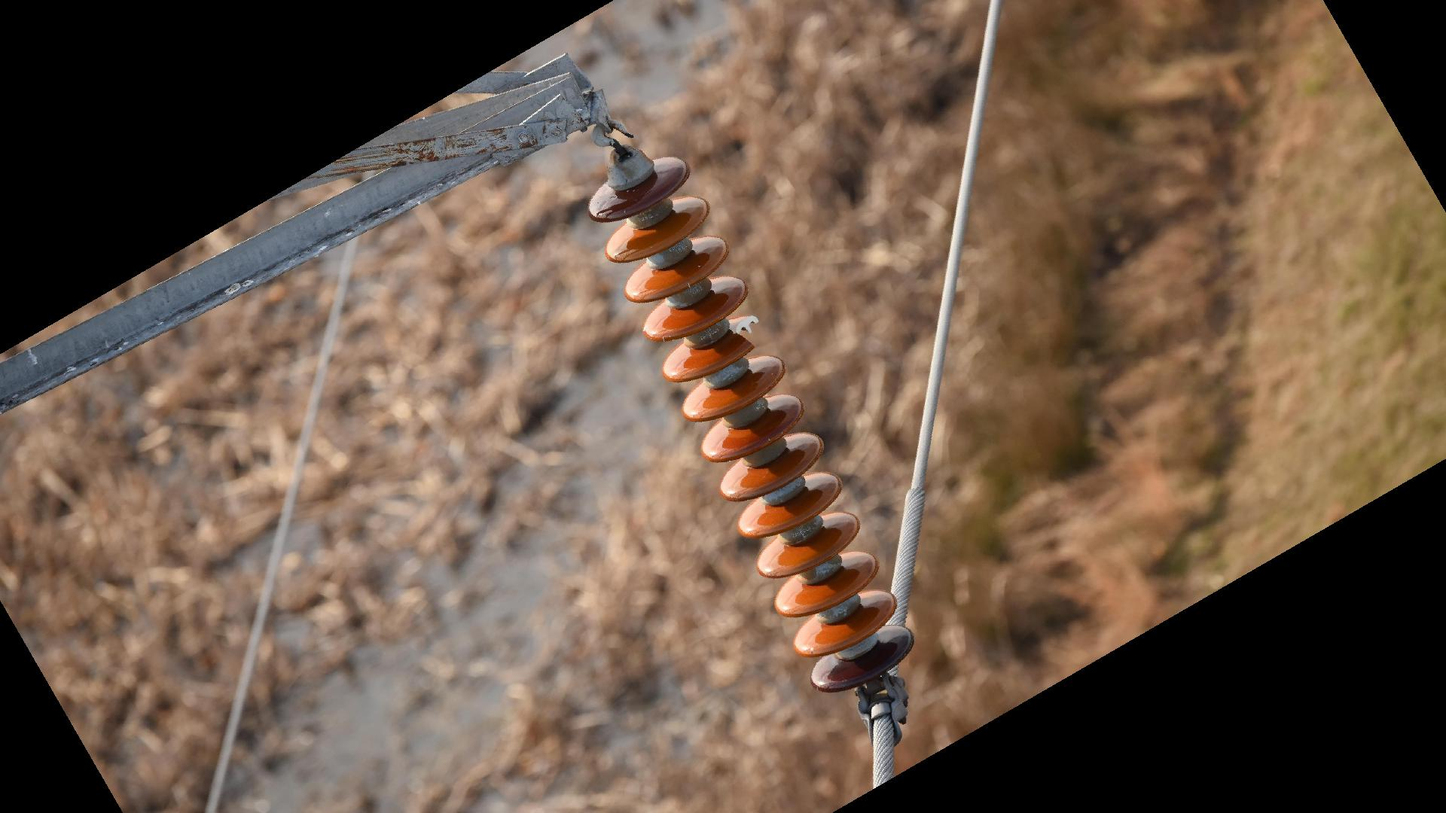insulator: (584, 152, 922, 697)
insulator_breakage: (731, 312, 764, 353)
